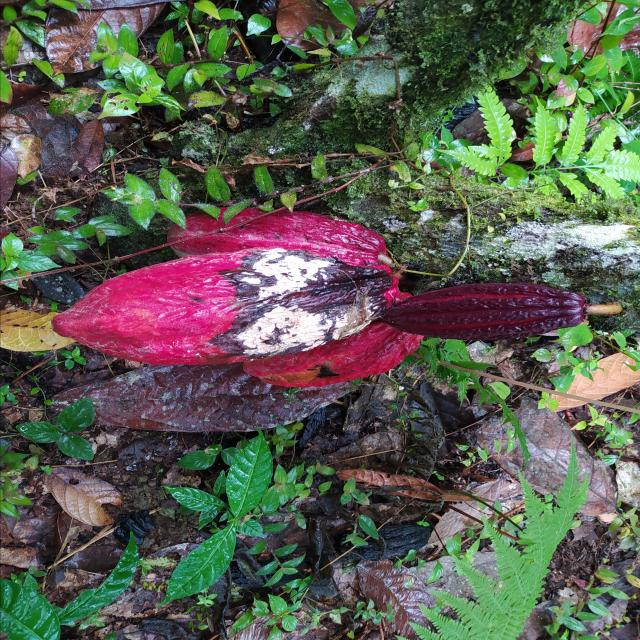Monilia: (51, 250, 390, 364)
Sana: (376, 282, 594, 344), (166, 212, 394, 258), (243, 334, 420, 384)
